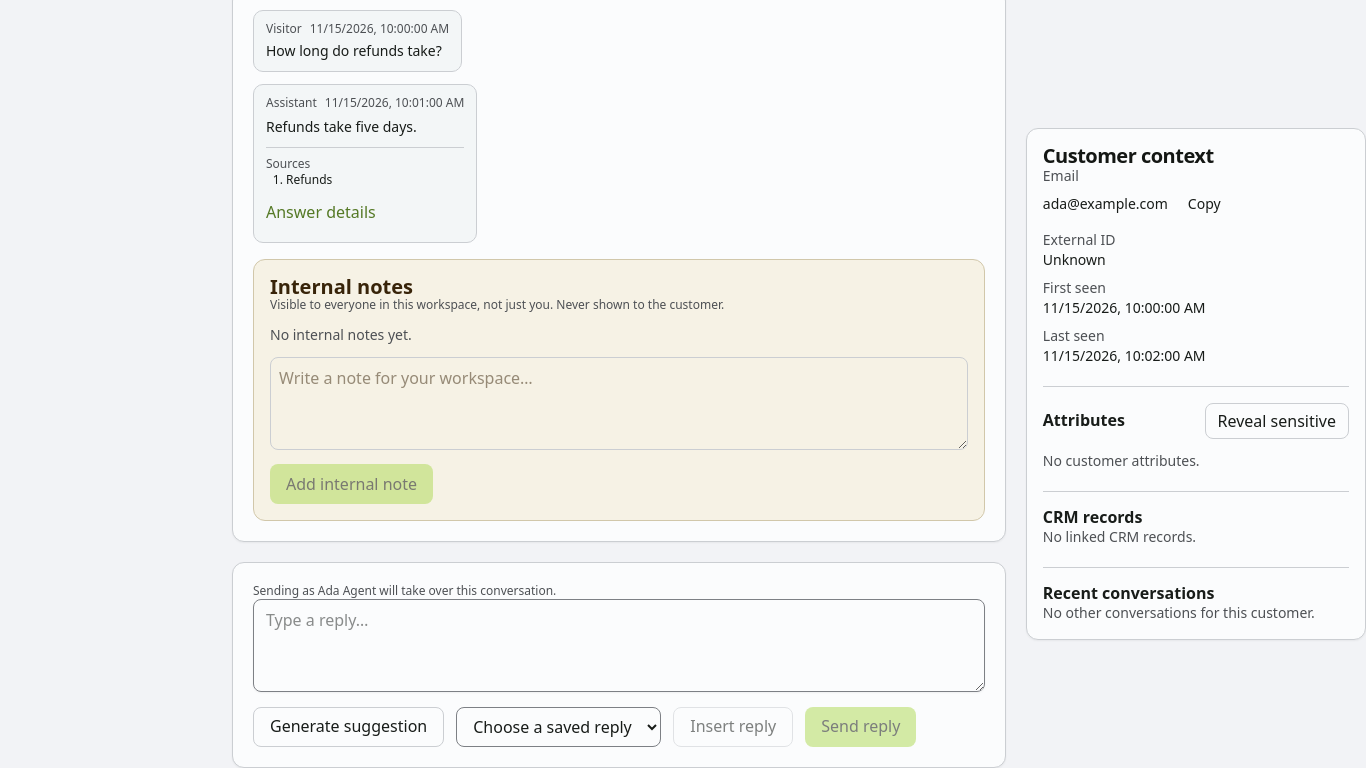
ConversationDetail › inserts a grounded suggestion as an editable draft without sending it
The width and height of the screenshot is (1366, 768).
(page scrolled)
Click the button "Generate suggestion": coordinates (349, 727) [253,707,444,747]
(page scrolled)
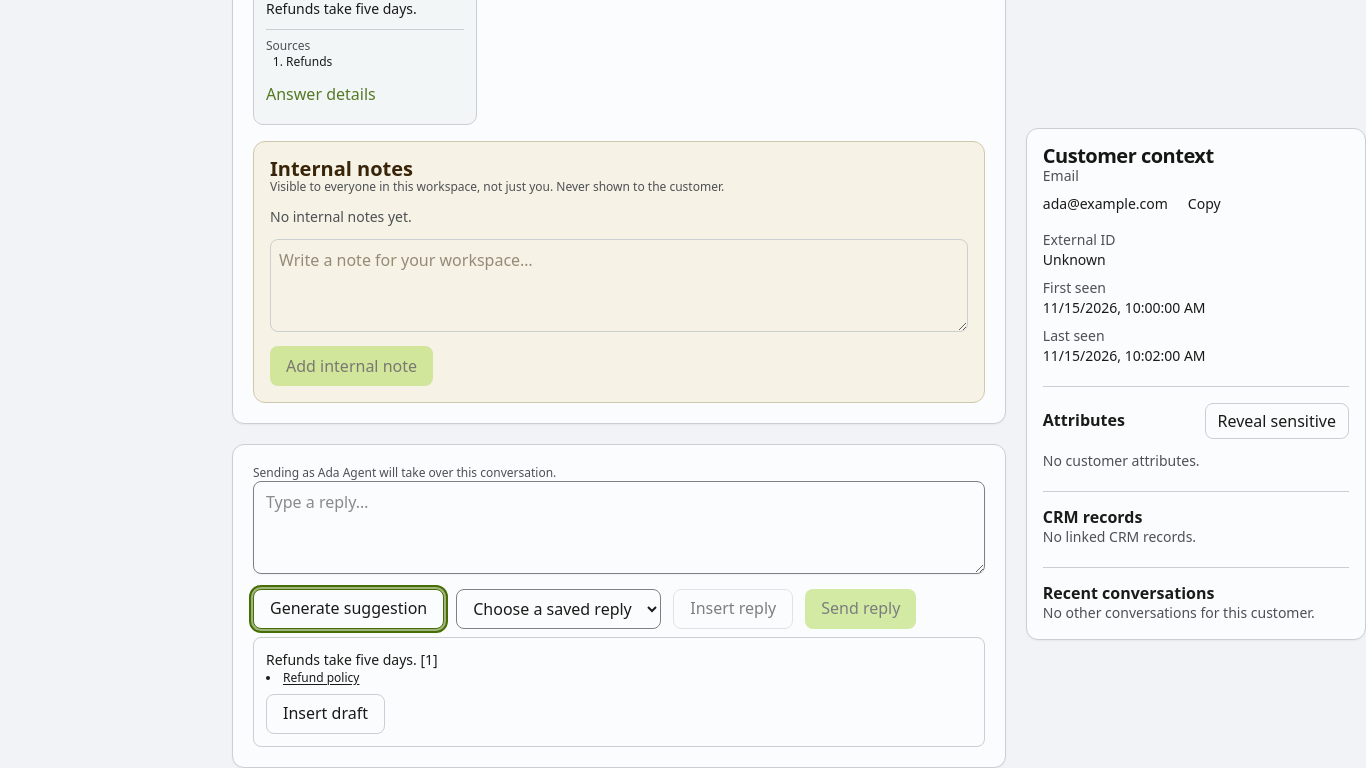
Result: the text "Refunds take five days. [1]" is shown at [266,650,438,669]
Click the button "Insert draft": coordinates (325, 714) [266,694,385,734]
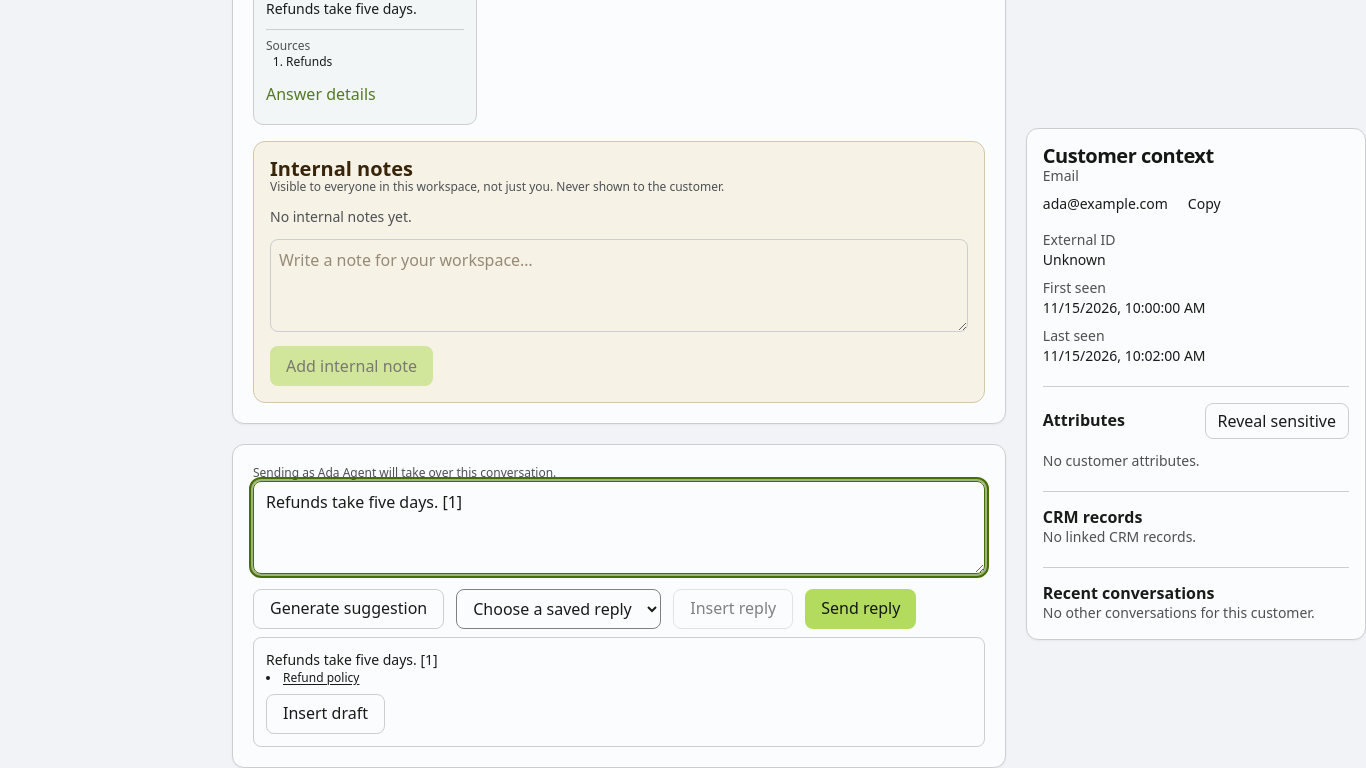
Result: the text box named "Reply to the visitor" holds "Refunds take five days. [1]" at [253,482,985,574]
